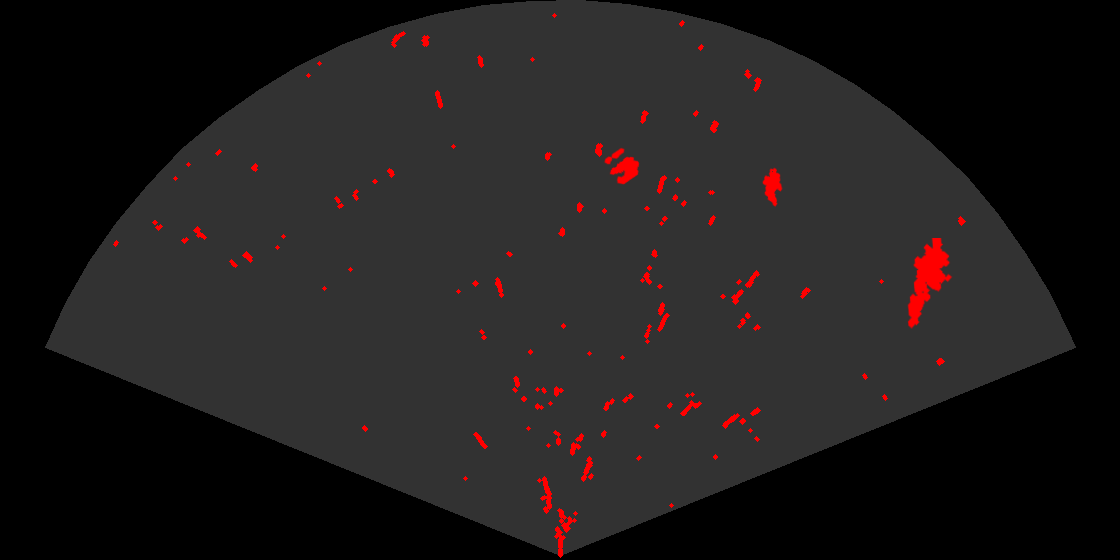AUV: (761, 166, 784, 208)
ball: (602, 146, 641, 186)
frogman: (906, 238, 954, 329)
